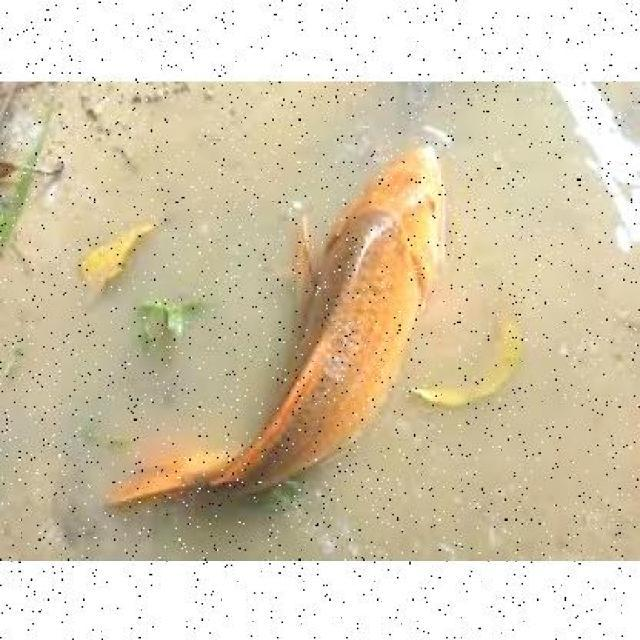ikan-mas: (110, 132, 456, 518)
